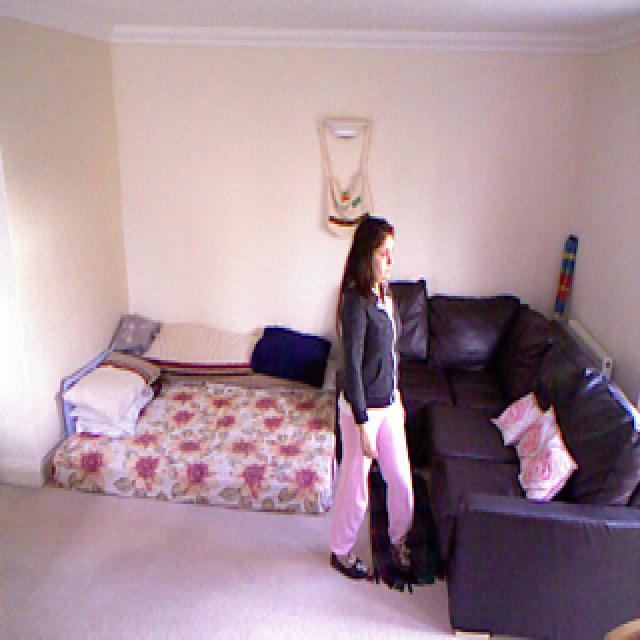Stand: (329, 216, 420, 579)
